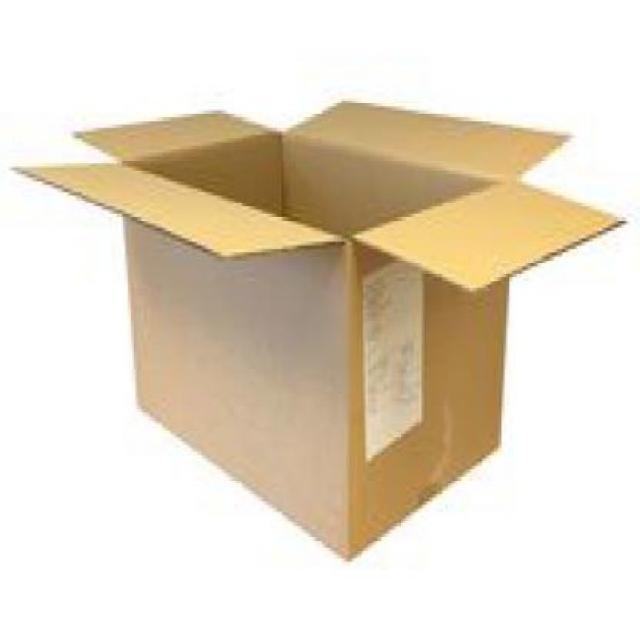box: (21, 94, 591, 559)
